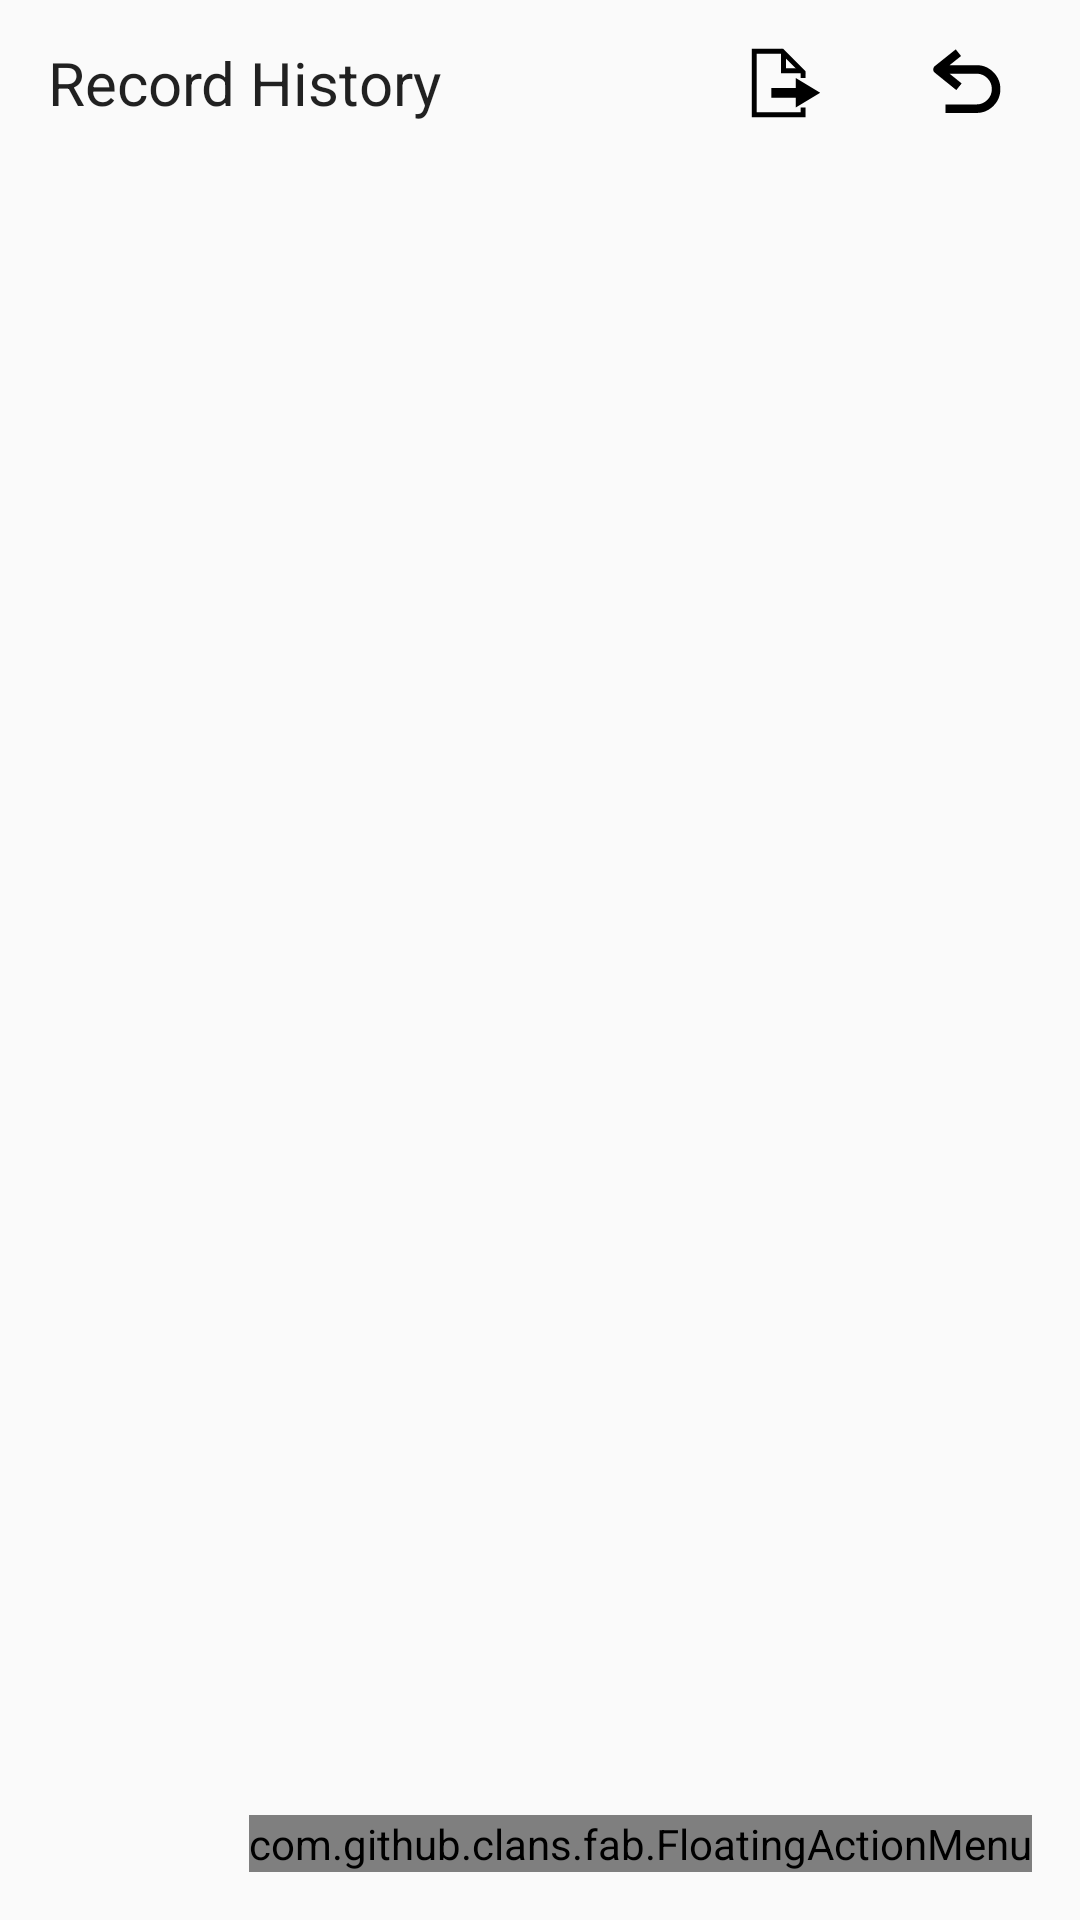

Named icons in this screenshot (1080x1920) and their bounding boxes, [x1, y1, x2, y2]:
noun export: [751, 48, 820, 118]
noun return: [933, 49, 1001, 113]
